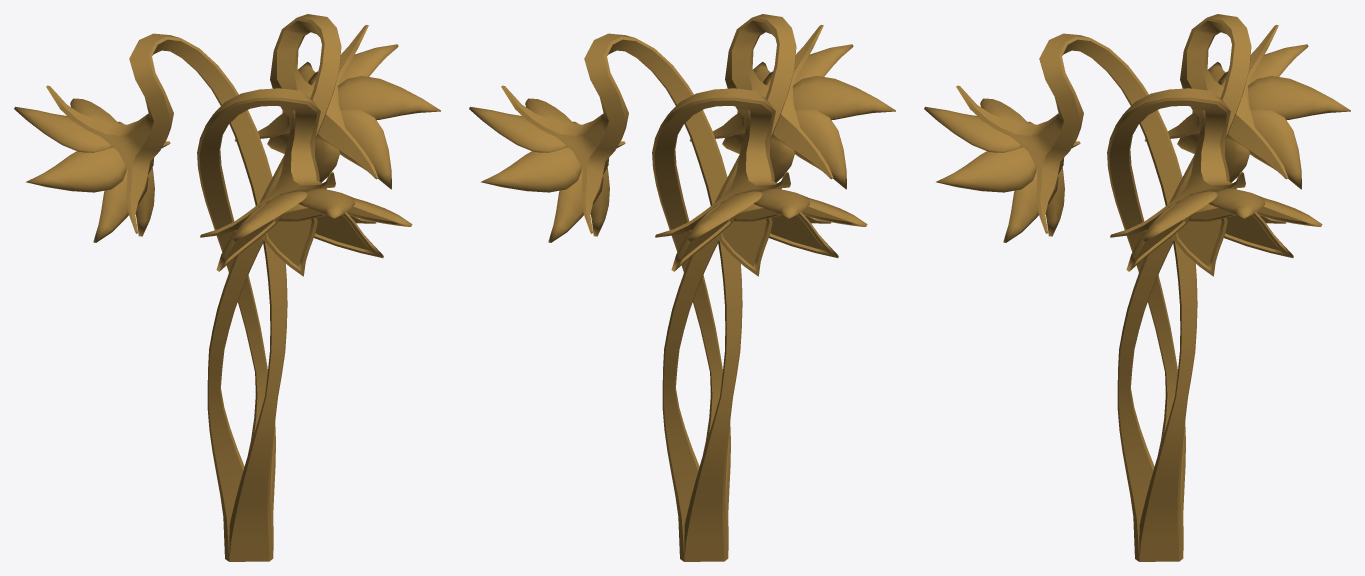
Rendered from OrnateFlowers.fbx.
The picture shows the model from 3 angles, left to right: view 1: azimuth 30°, elevation 25°; view 2: azimuth 150°, elevation 25°; view 3: azimuth 270°, elevation 25°; orthographic projection.
Visible parts, largest first — view 1: Circle.005; view 2: Circle.005; view 3: Circle.005.
Part boxes in pixels (box(x1,y1,x2,y2)): Circle.005: box(14, 14, 440, 561); Circle.005: box(469, 14, 895, 561); Circle.005: box(924, 14, 1350, 561).
Bounding box in the file's own units: 2000 × 2504 × 1919.
